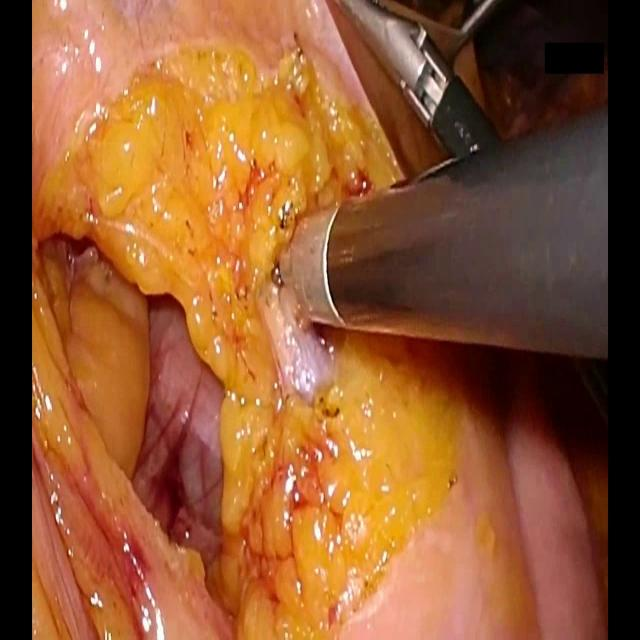surgical-area: (32, 0, 608, 639)
surgical-tool: (276, 107, 608, 358), (334, 0, 504, 158)
